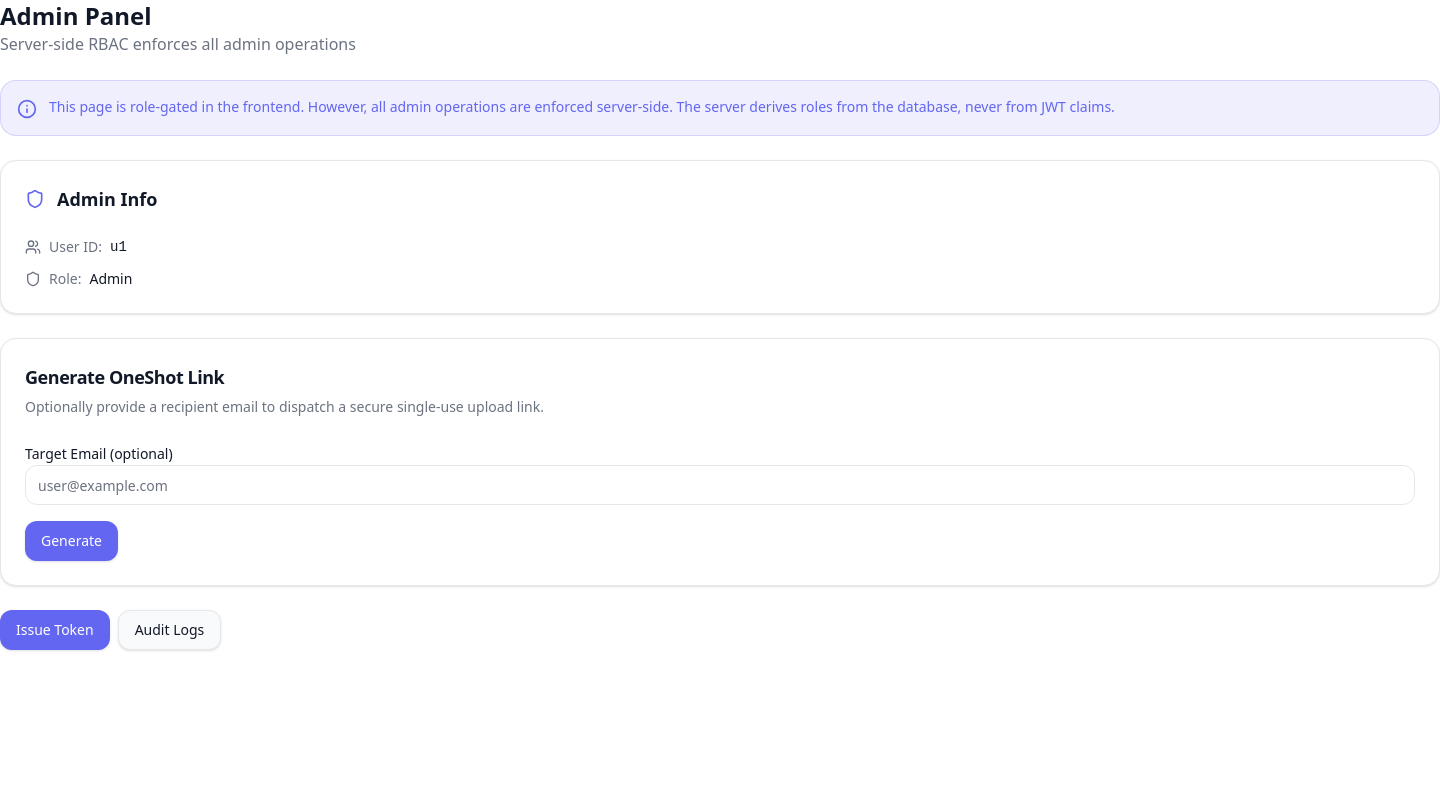
Test case: Admin › renders audit tables with mocked API data
Click the button "Audit Logs" at (170, 630), box [118,610,221,650]
(page scrolled)
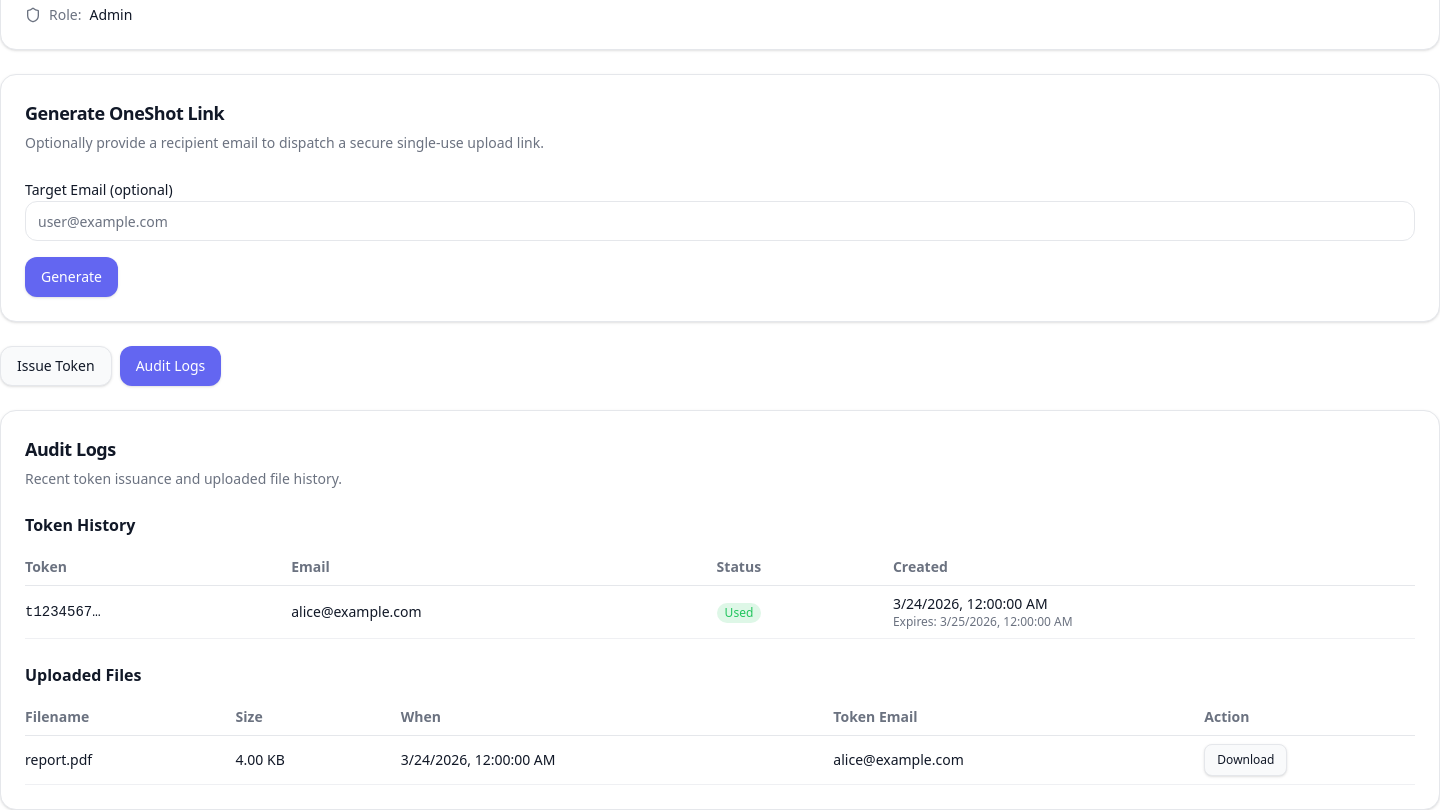
Result: the heading "Token History" is shown at [25,514,135,536]
Result: the text "alice@example.com" is shown 2 times at [291,586,717,638]; [833,736,1204,784]
Result: the text "Used" is shown at [717,602,761,622]
